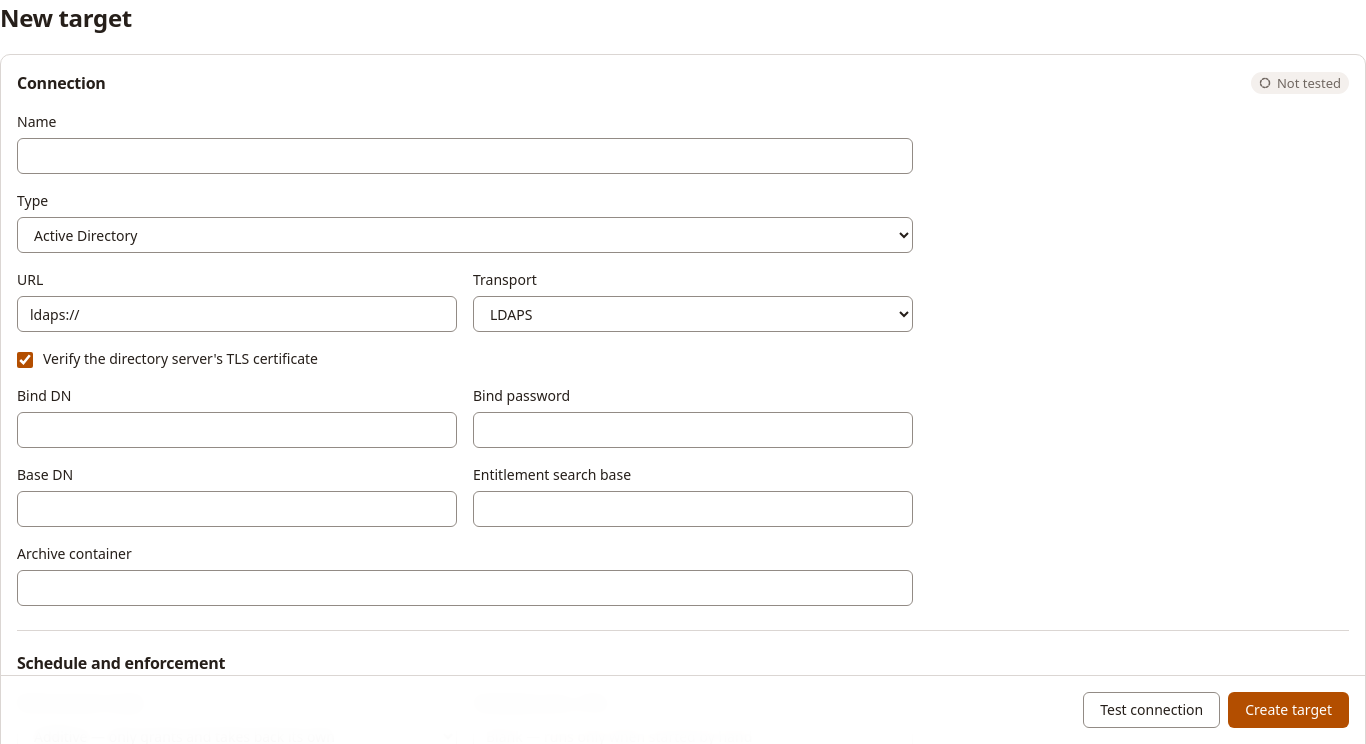
Test case: TargetDetailPage › keeps the document out of the way until it is asked for
Select "REST API" in the dropdown labelled "Type" at (465, 235), box [17,217,913,253]
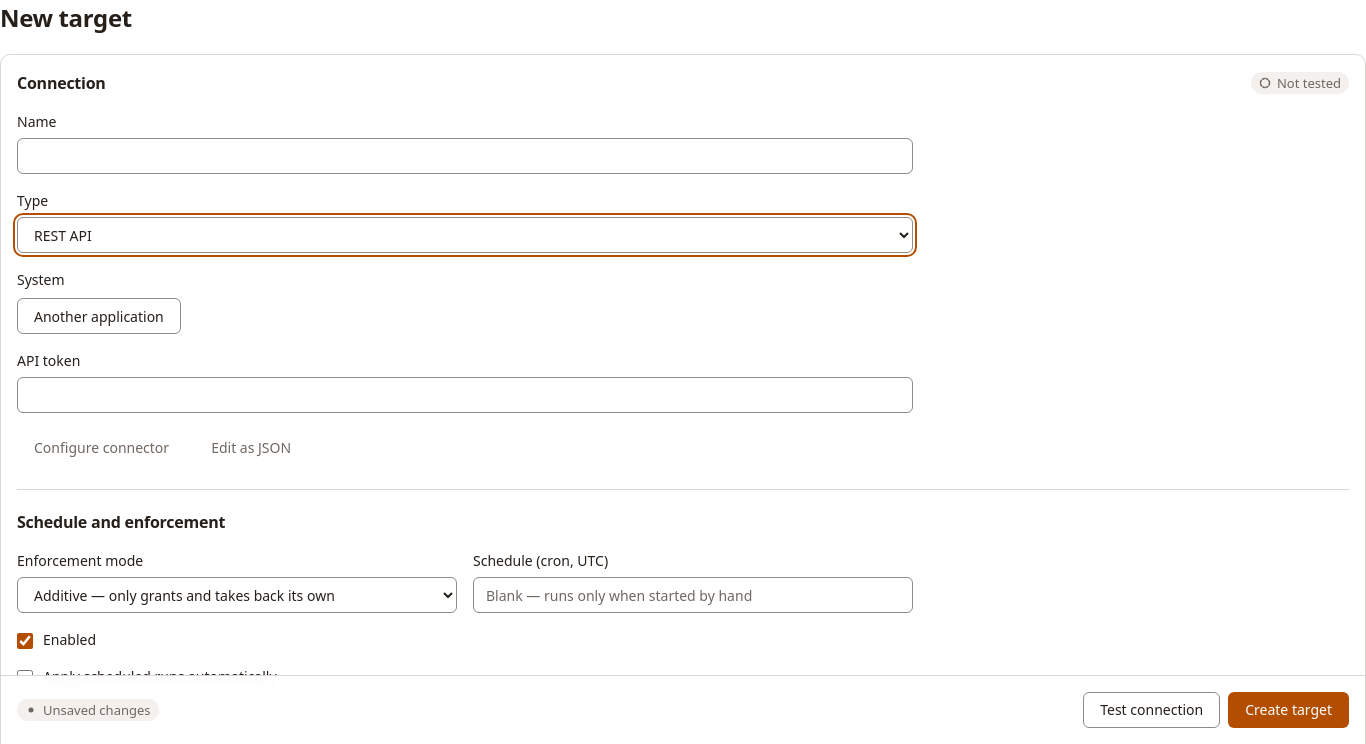
Expected: the field labelled "connector document" is not shown
Click the button "Edit as JSON".
click(251, 447)  # box [194,429,308,465]
(page scrolled)
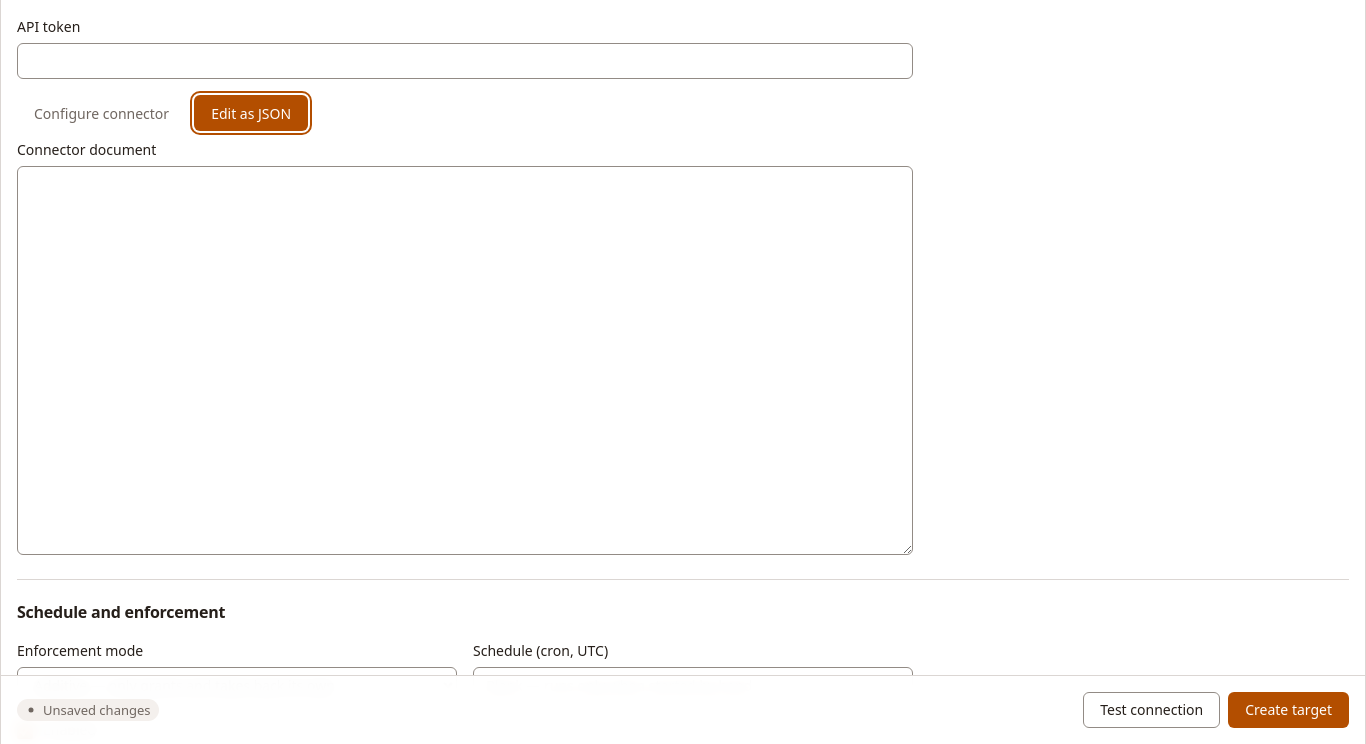
Now the text box labelled "Connector document" is shown, box [17,166,913,556]
